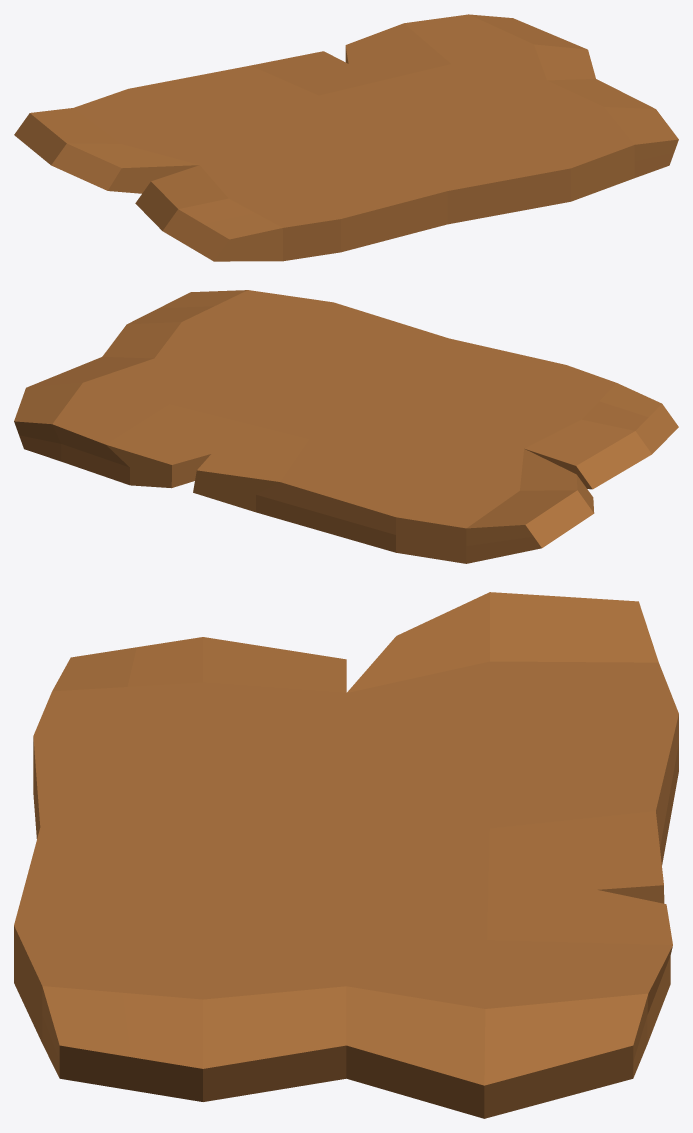
The picture shows the model from 3 angles, top to bottom: view 1: azimuth 30°, elevation 25°; view 2: azimuth 150°, elevation 25°; view 3: azimuth 270°, elevation 25°; orthographic projection. The views are drawn at different scales.
Visible parts, largest first — view 1: Cube; view 2: Cube; view 3: Cube.
Boxes of the visible parts, bbox=[...] form: Cube: bbox=[14, 14, 678, 261]; Cube: bbox=[14, 290, 678, 563]; Cube: bbox=[14, 592, 678, 1118].
Bounding box in the file's own units: 373 × 36.99 × 232.
Materials: 1 (1 with a texture image).
